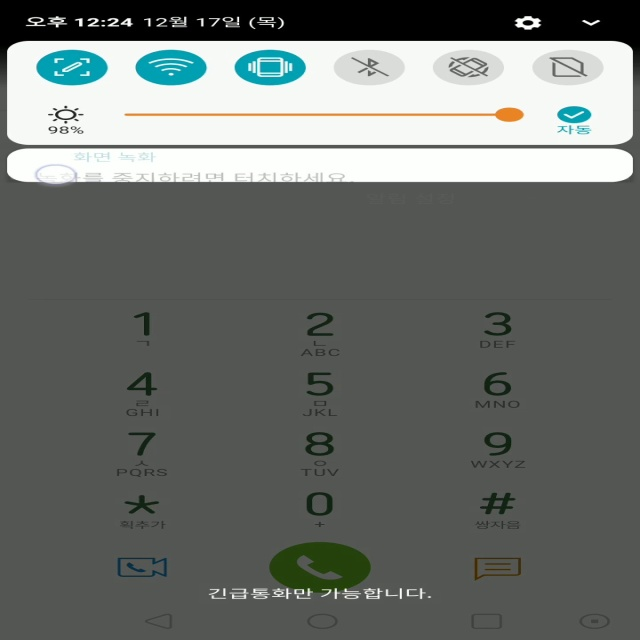Cursor: (33, 163, 78, 185)
